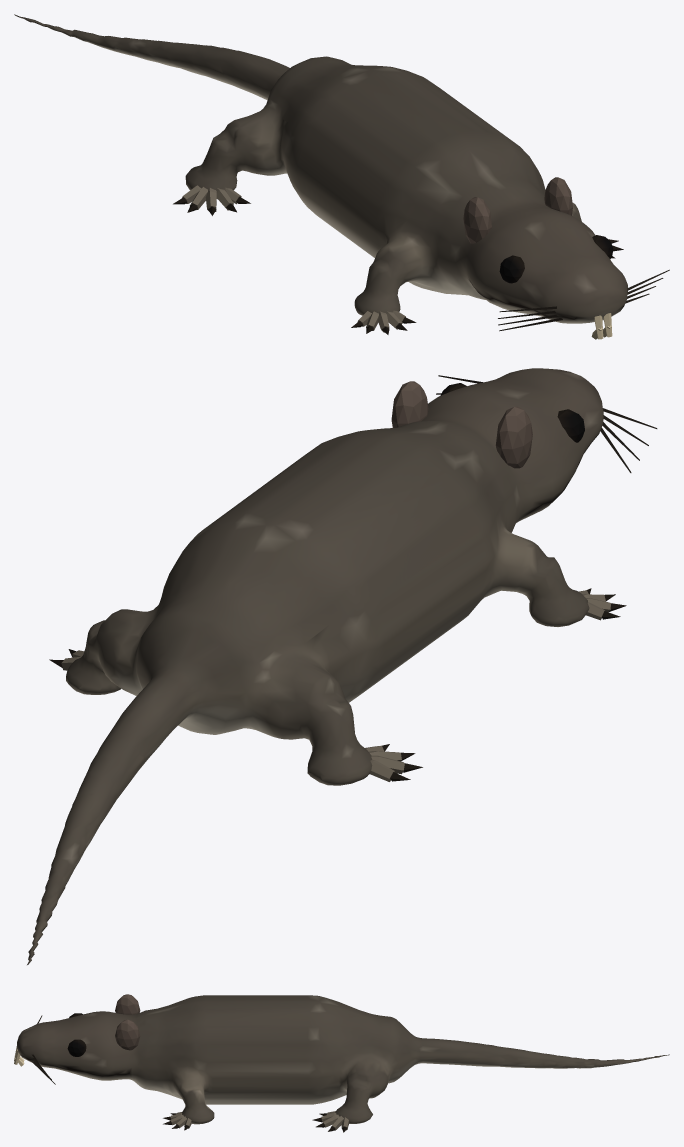
Rendered from Rugosodon.fbx.
3 views of the same model, one above another, from view 1: azimuth 30°, elevation 25°; view 2: azimuth 150°, elevation 25°; view 3: azimuth 270°, elevation 25° (orthographic). The views are drawn at different scales.
Parts seen in each view (by area): view 1: Rugosodon; view 2: Rugosodon; view 3: Rugosodon.
Part boxes in pixels (x1=…): Rugosodon: x1=14, y1=14, x2=669, y2=339; Rugosodon: x1=27, y1=368, x2=657, y2=964; Rugosodon: x1=14, y1=994, x2=669, y2=1132.
Bounding box in the file's own units: 0.3773 × 0.1794 × 1.09.
